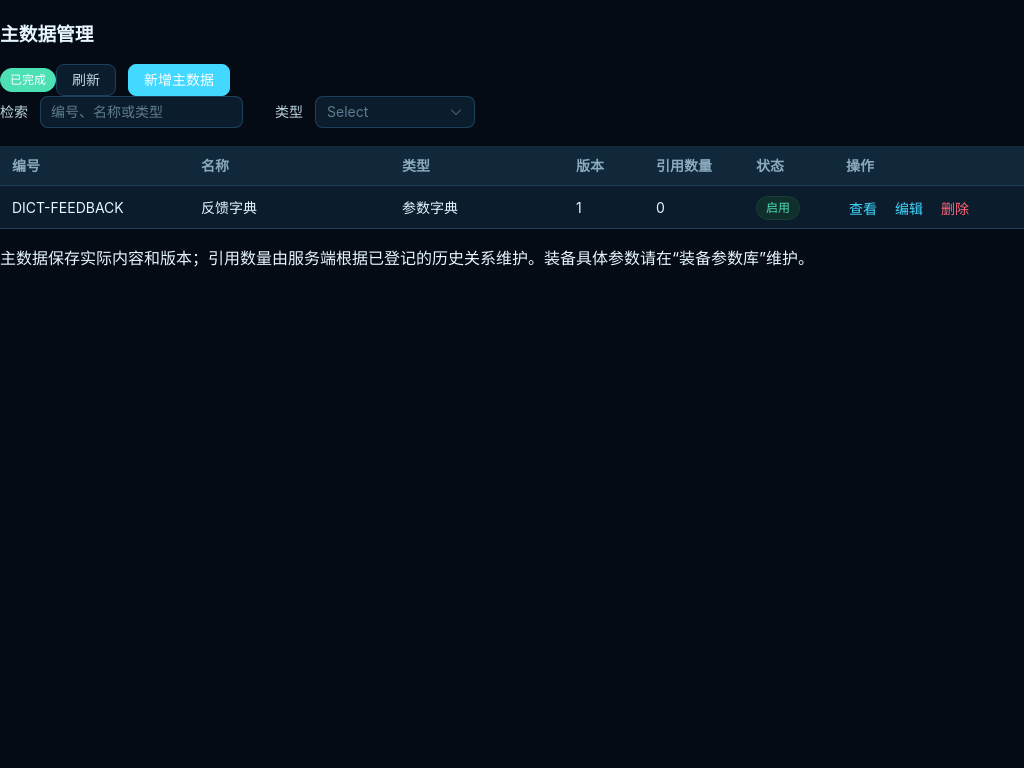
Scenario: P7 系统管理面板 › 主数据保存与删除通过真实 Store 反馈，成功=true
Click the button "编辑" at (909, 209), box [892,199,926,219]
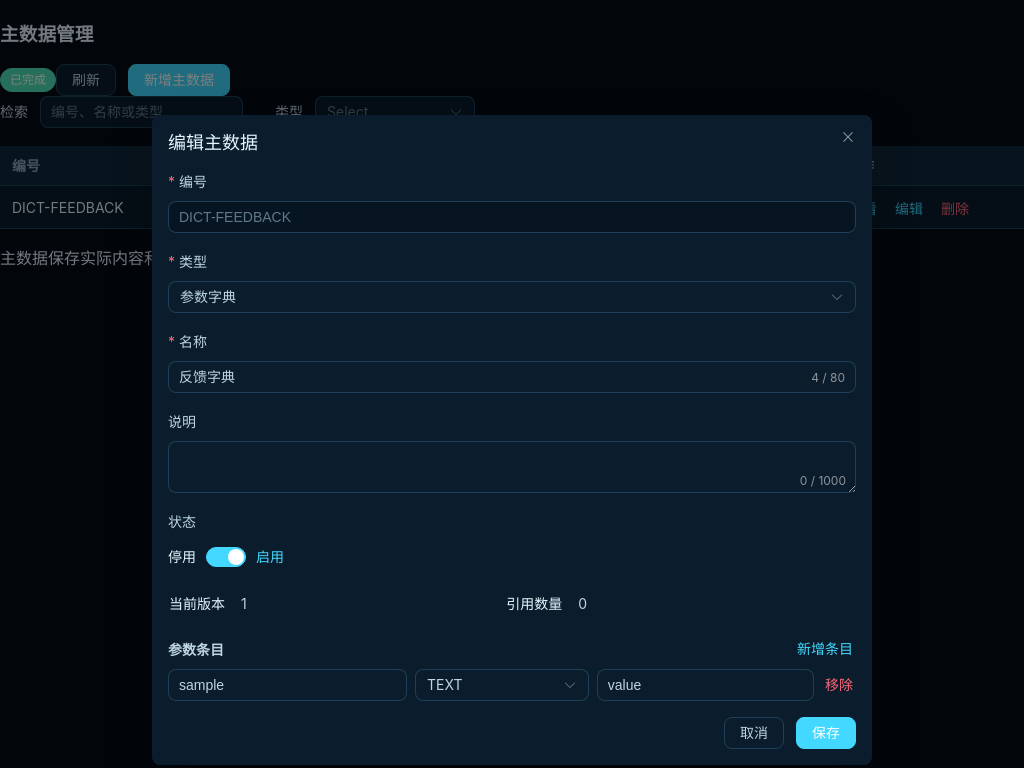
Expected: the button "保存" is shown
Click the button "保存" at (826, 733), box [796,717,856,749]
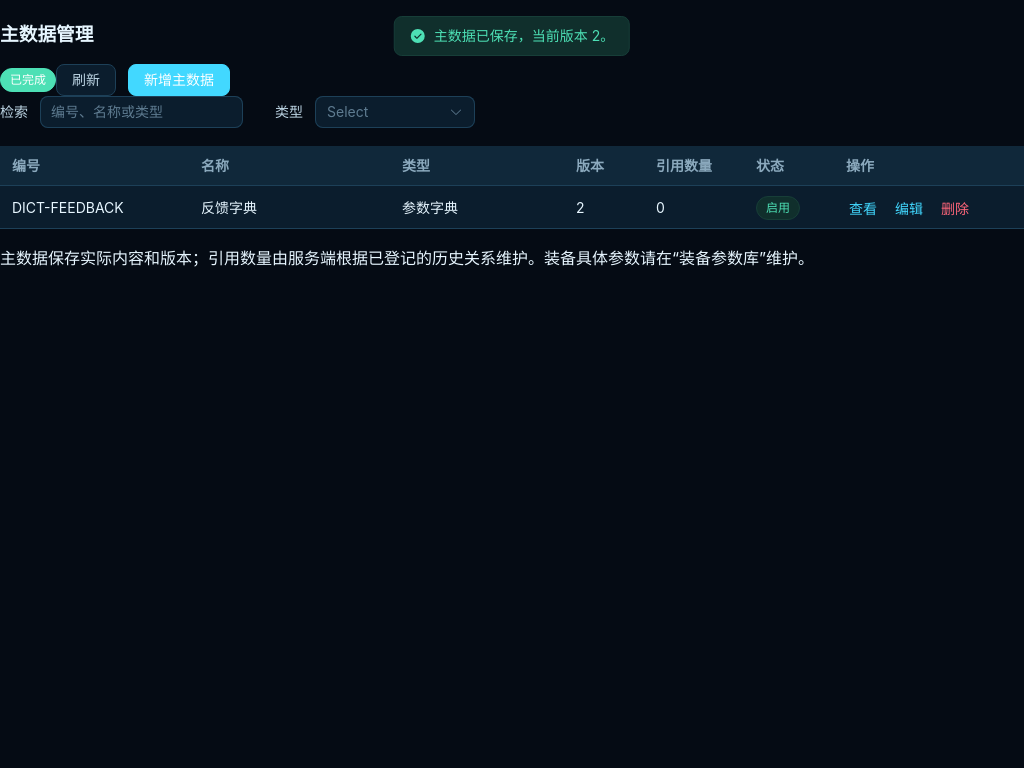
Click the button "删除" at (955, 209), box [938,199,972,219]
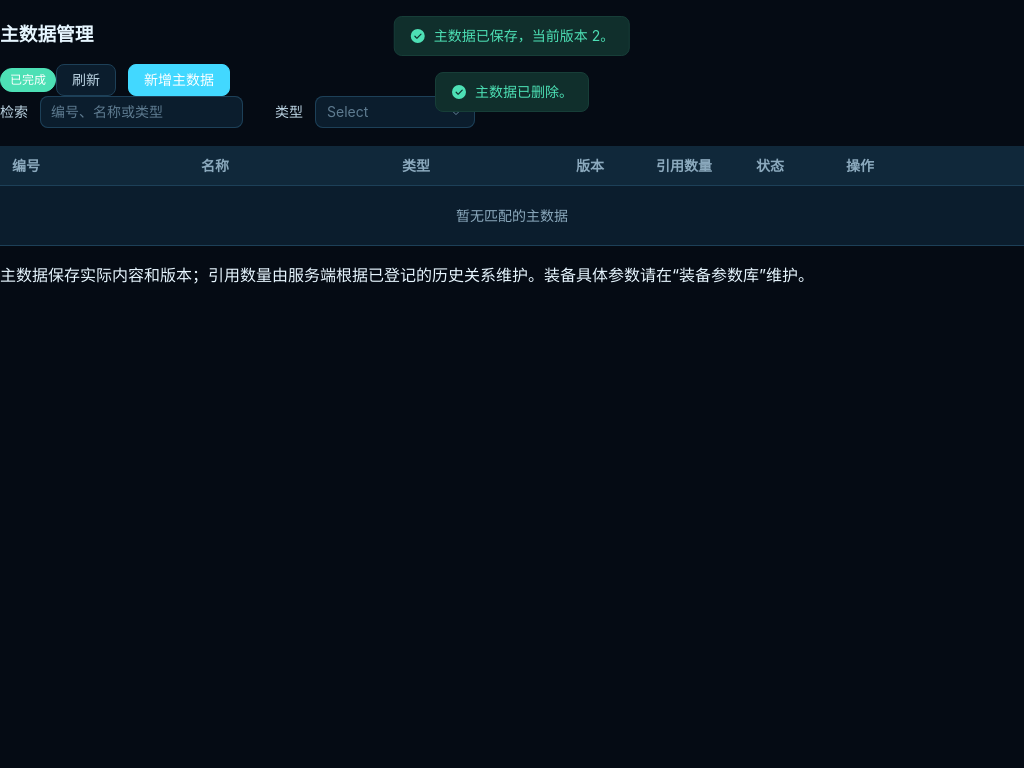
Click the button "刷新" at (86, 80), box [56,64,116,96]
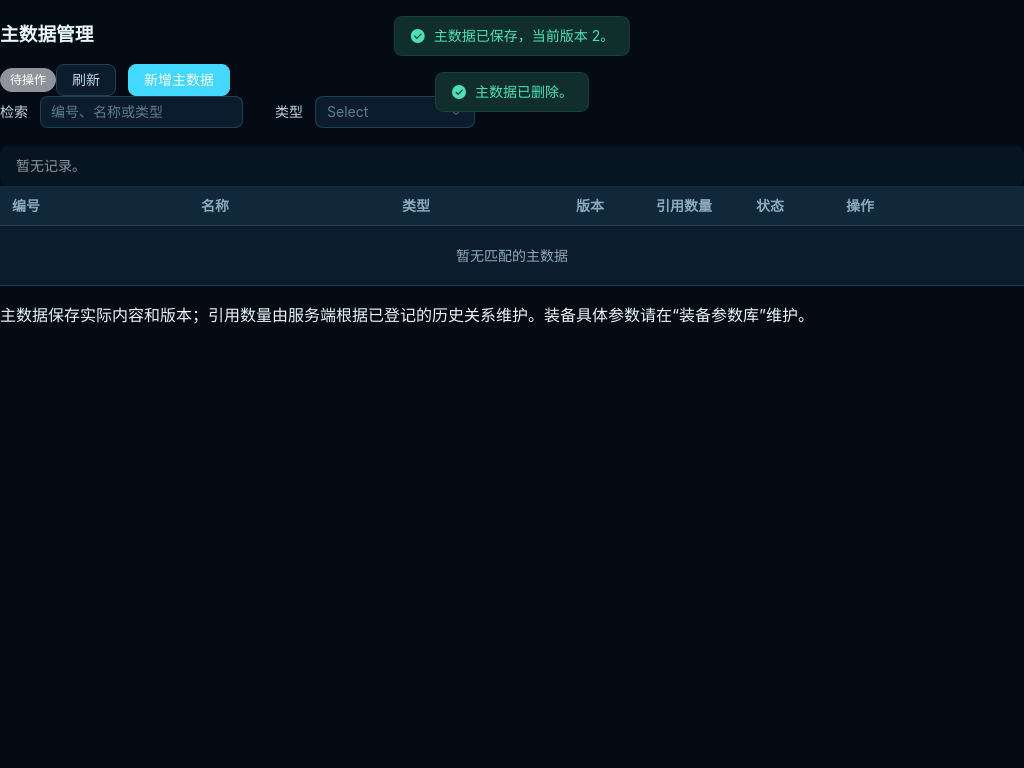
Expected: the element with test id "master-feedback" reads "暂无记录。", [16,157,86,174]
